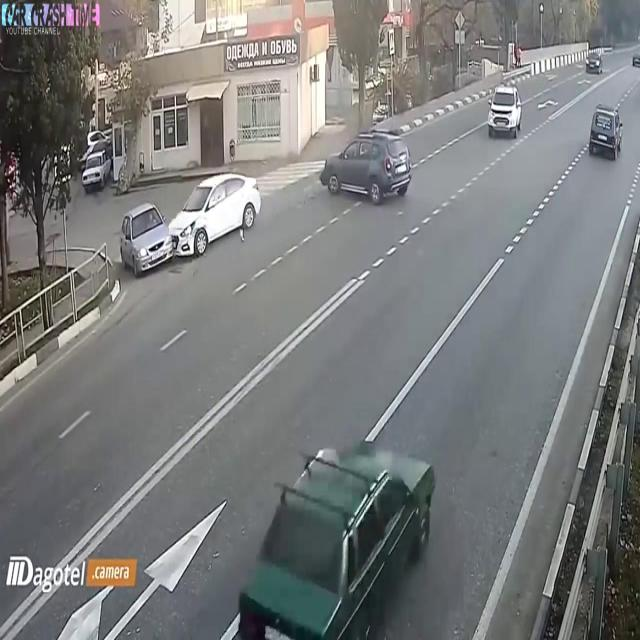accident: (118, 158, 266, 278)
